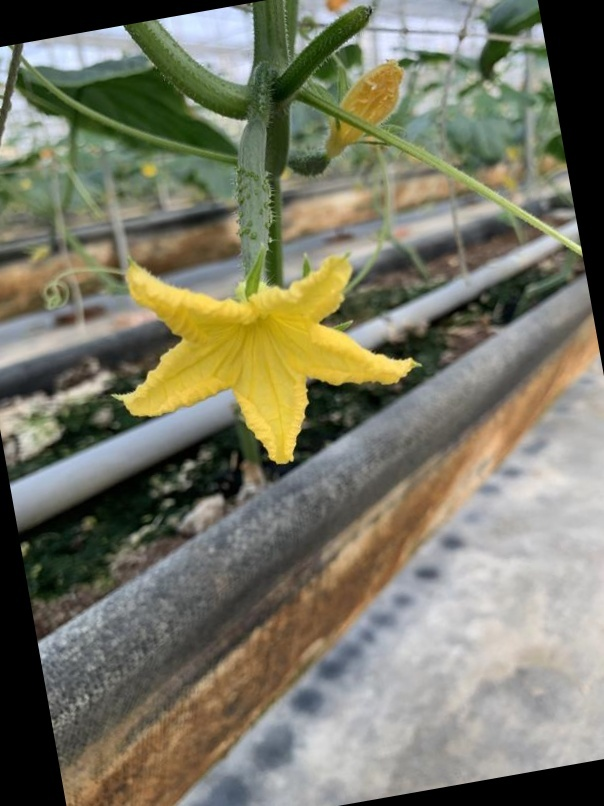flowering: (76, 94, 413, 476)
